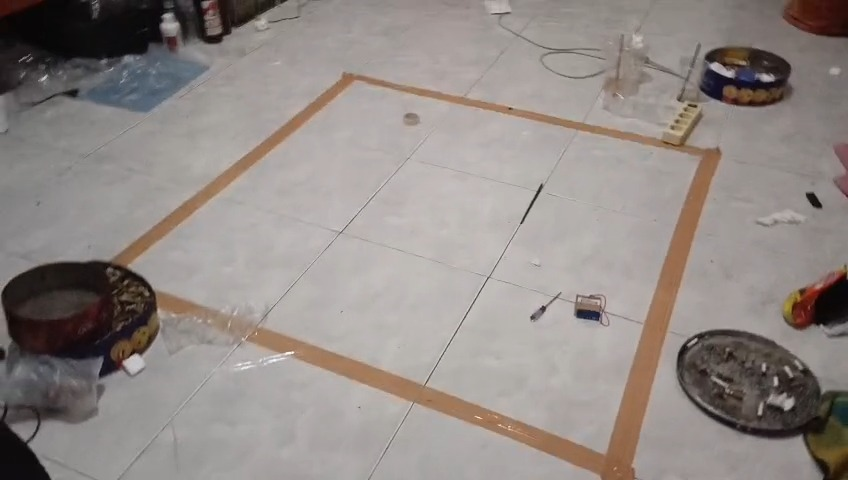floor marking: (112, 73, 721, 479), (157, 292, 227, 327)
